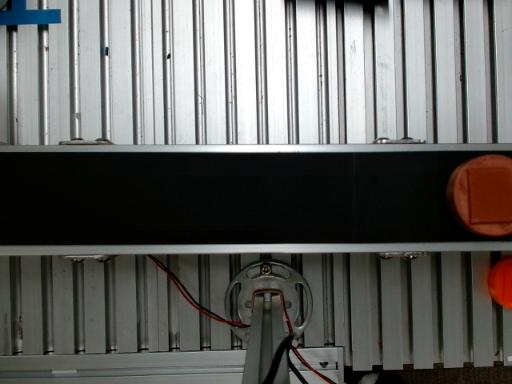Brown_Waper: (446, 154, 511, 236)
